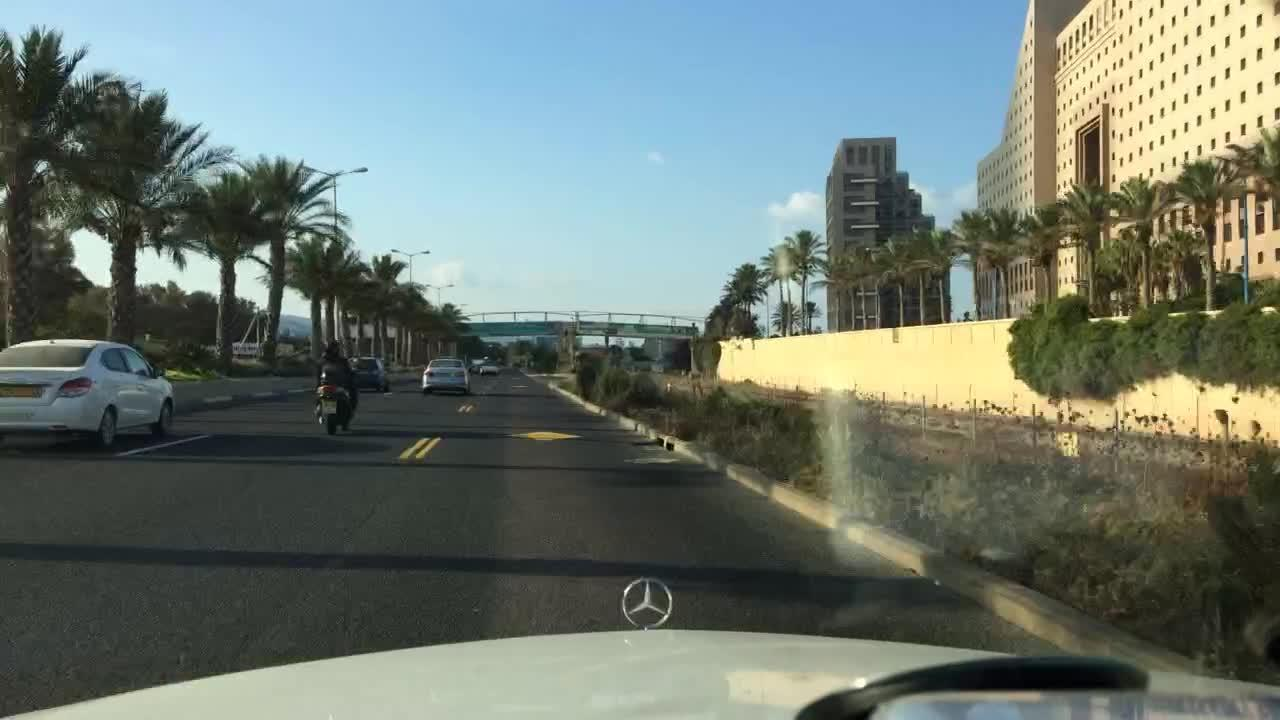Mercedes: (600, 553, 691, 649)
